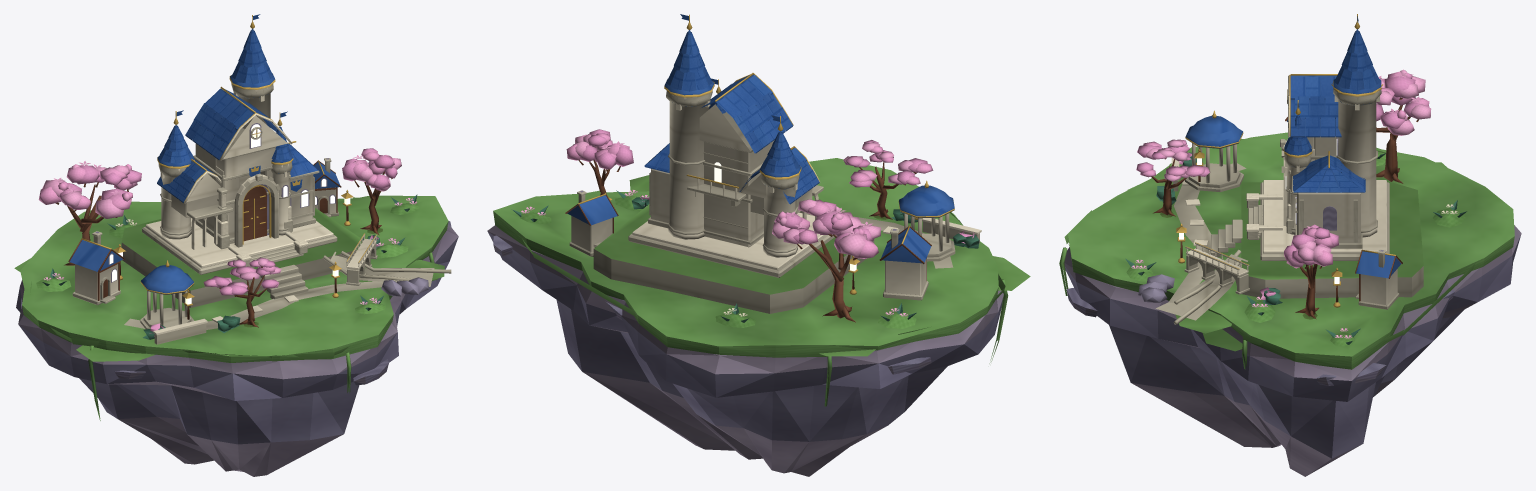
File: royal-island-right-final-v1-low.glb
The picture shows the model from 3 angles, left to right: view 1: azimuth 30°, elevation 25°; view 2: azimuth 150°, elevation 25°; view 3: azimuth 270°, elevation 25°; orthographic projection. The views are drawn at different scales.
Parts seen in each view (by area): view 1: royal-island-right-final-v1; view 2: royal-island-right-final-v1; view 3: royal-island-right-final-v1.
Boxes of the visible parts, x1,y1,x2,y2 form: royal-island-right-final-v1: [14, 14, 458, 476]; royal-island-right-final-v1: [487, 14, 1030, 476]; royal-island-right-final-v1: [1059, 14, 1521, 476].
Size of the model in its own units: 18.19 by 16.72 by 15.46.
10 materials, 10 textured.
